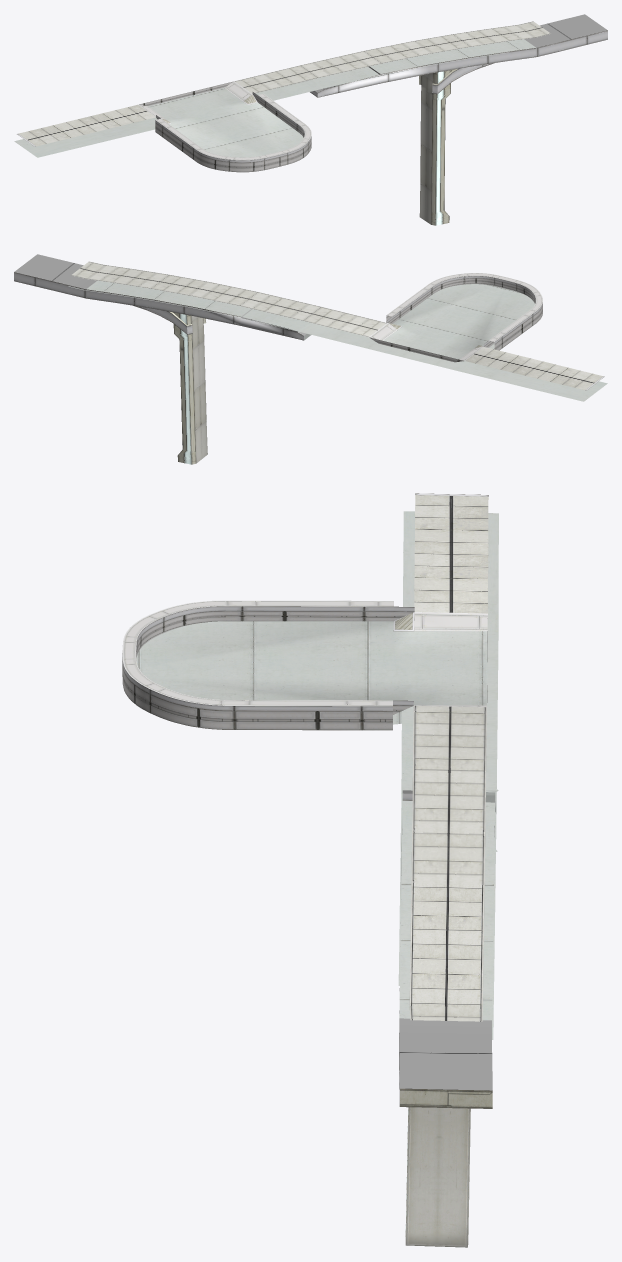
The model's file is STA20_45.FBX.
3 renders of one model, top to bottom at view 1: azimuth 30°, elevation 25°; view 2: azimuth 150°, elevation 25°; view 3: azimuth 270°, elevation 25°, orthographic. The views are drawn at different scales.
Visible parts, largest first — view 1: STA20_45; view 2: STA20_45; view 3: STA20_45.
Part boxes in pixels (bbox=[...]): STA20_45: bbox=[14, 14, 607, 225]; STA20_45: bbox=[14, 254, 607, 464]; STA20_45: bbox=[122, 493, 498, 1247].
Size of the model in its own units: 57.49 by 17.31 by 16.48.
